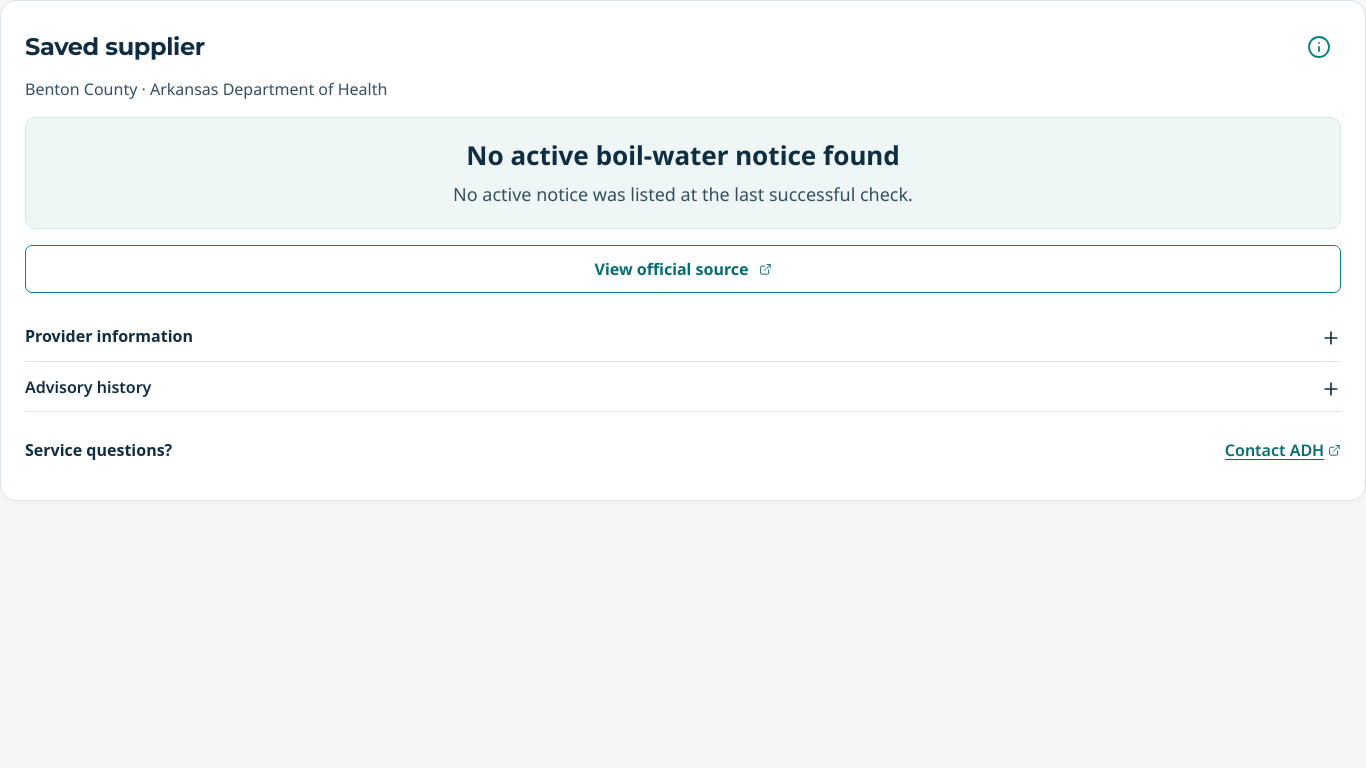
Test: shows the AI disclaimer in the supplier info dialog (en)
What coordinates should you click on to do the following:
click the button named "About this supplier"
I would click on:
 (1319, 47)
Its box is [1297,25,1341,69].
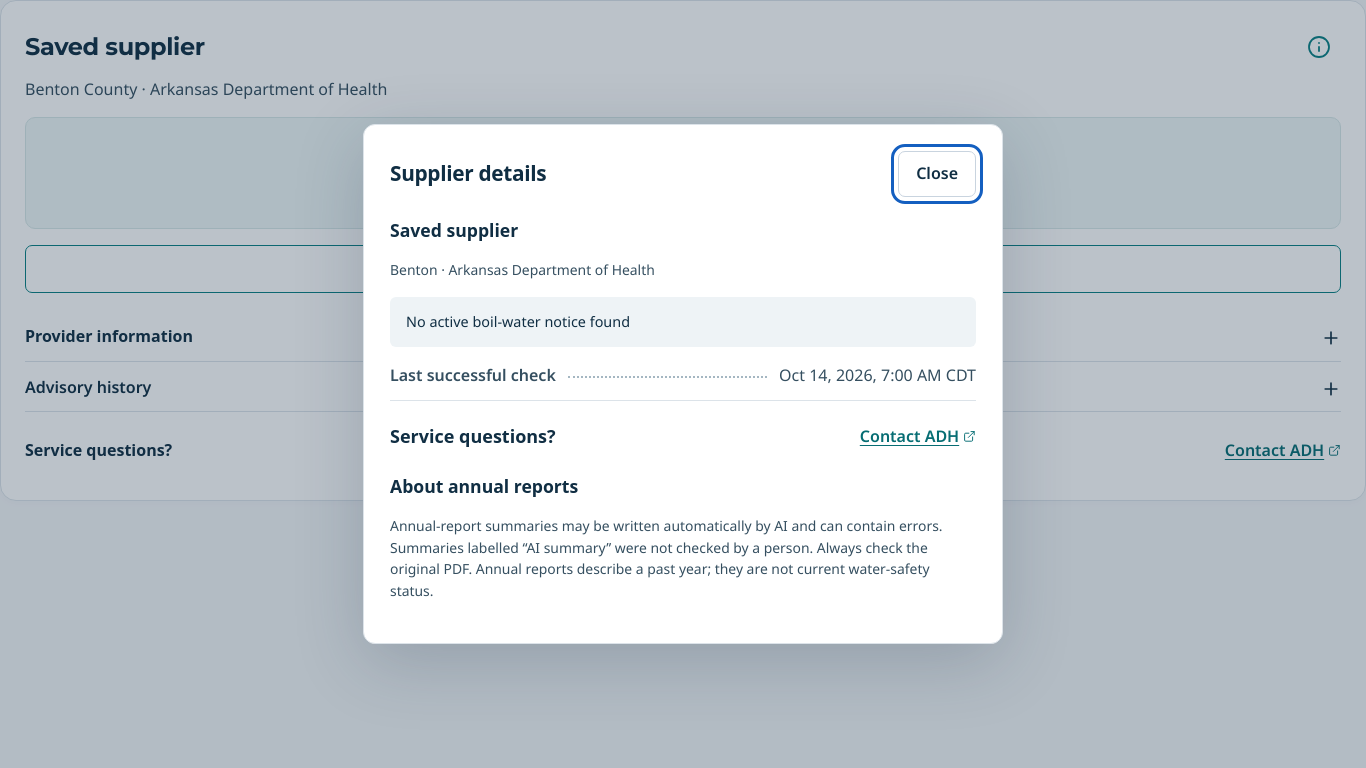
Expected: the heading "About annual reports" is shown, [390,474,578,498]
Expected: the text "Annual-report summaries may be written automatically by AI and can contain errors. Summaries labelled “AI summary” were " is shown, [390,516,942,600]
